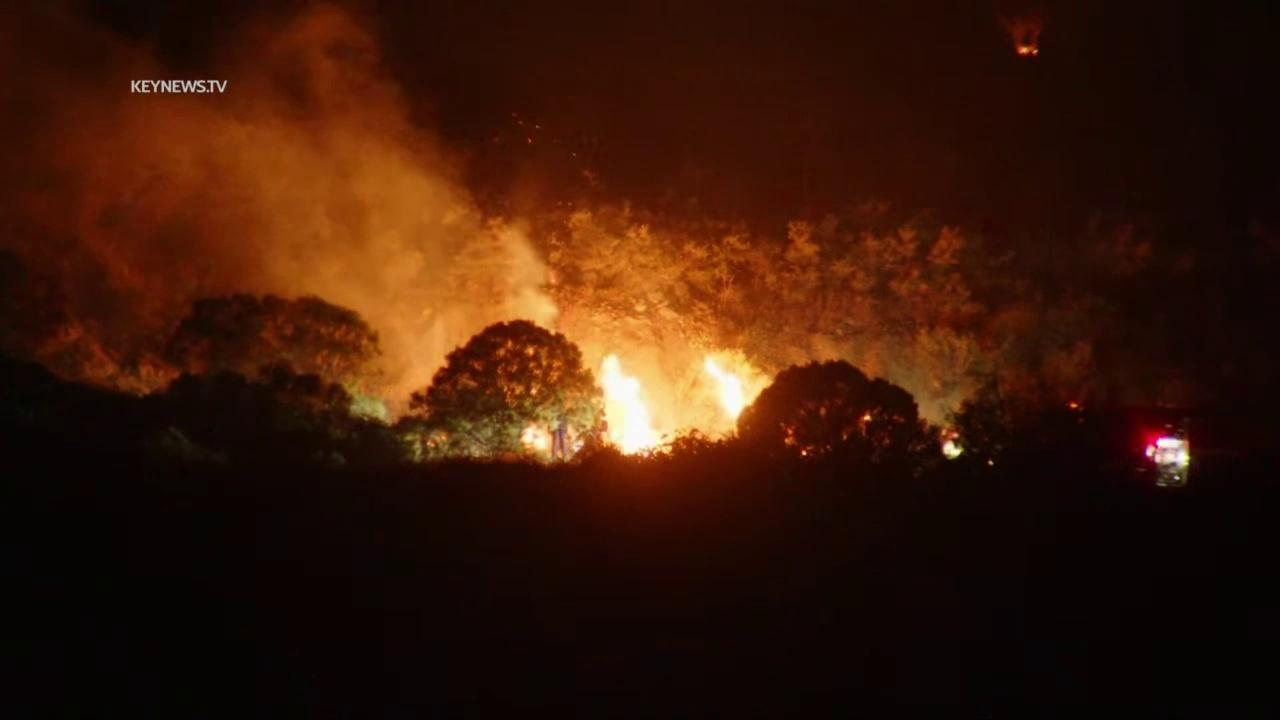fire: (584, 348, 672, 458), (697, 355, 752, 425), (514, 419, 552, 455), (1012, 46, 1041, 56)
smoke: (0, 0, 567, 403), (989, 1, 1050, 47)
